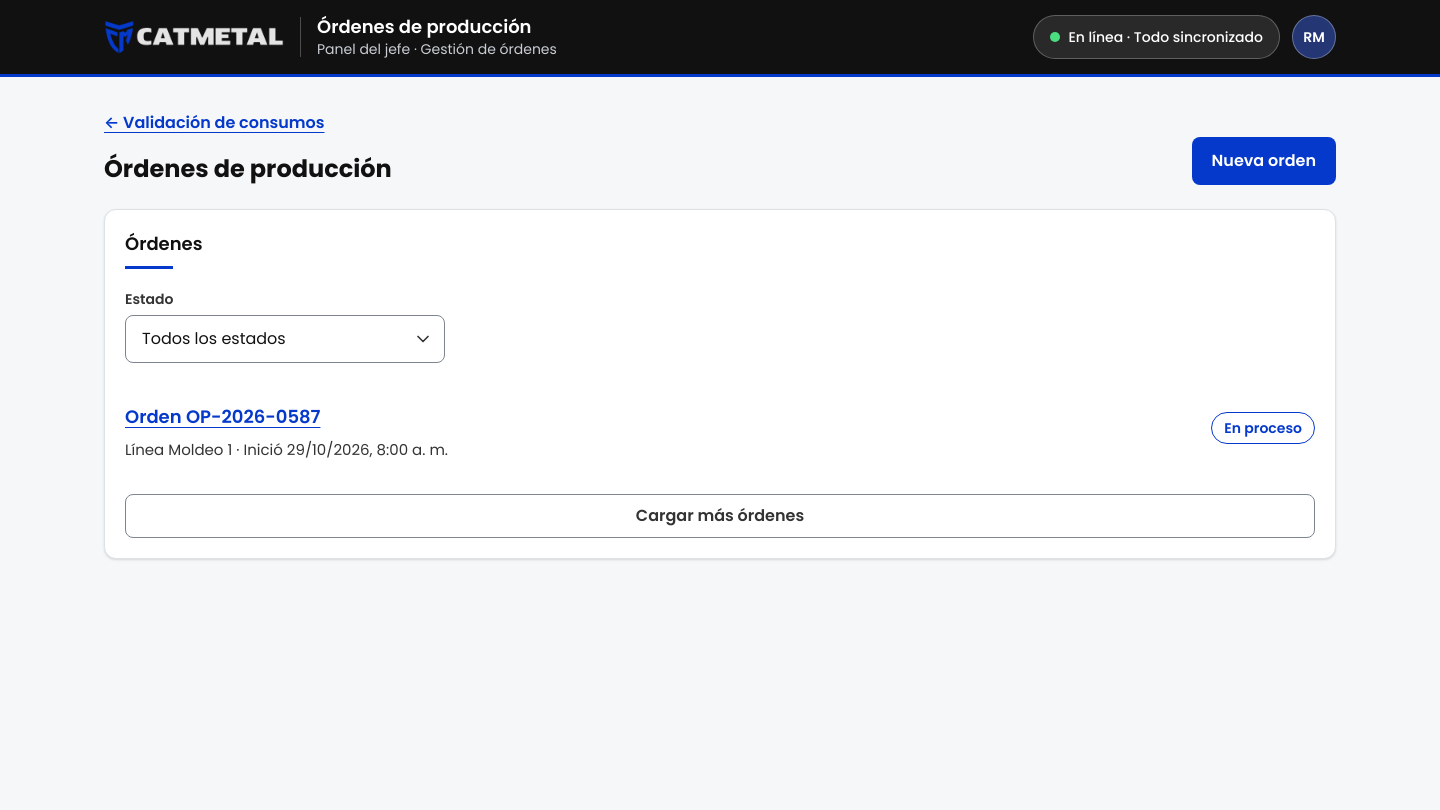
Test: lista de órdenes › lista por estado y pagina por cursor
Expected: the heading "Órdenes de producción" is shown, [104, 153, 392, 185]
Expected: the header shows "Órdenes de producción", [317, 14, 532, 39]
Click the button "Cargar más órdenes": click(720, 516) [125, 494, 1315, 538]
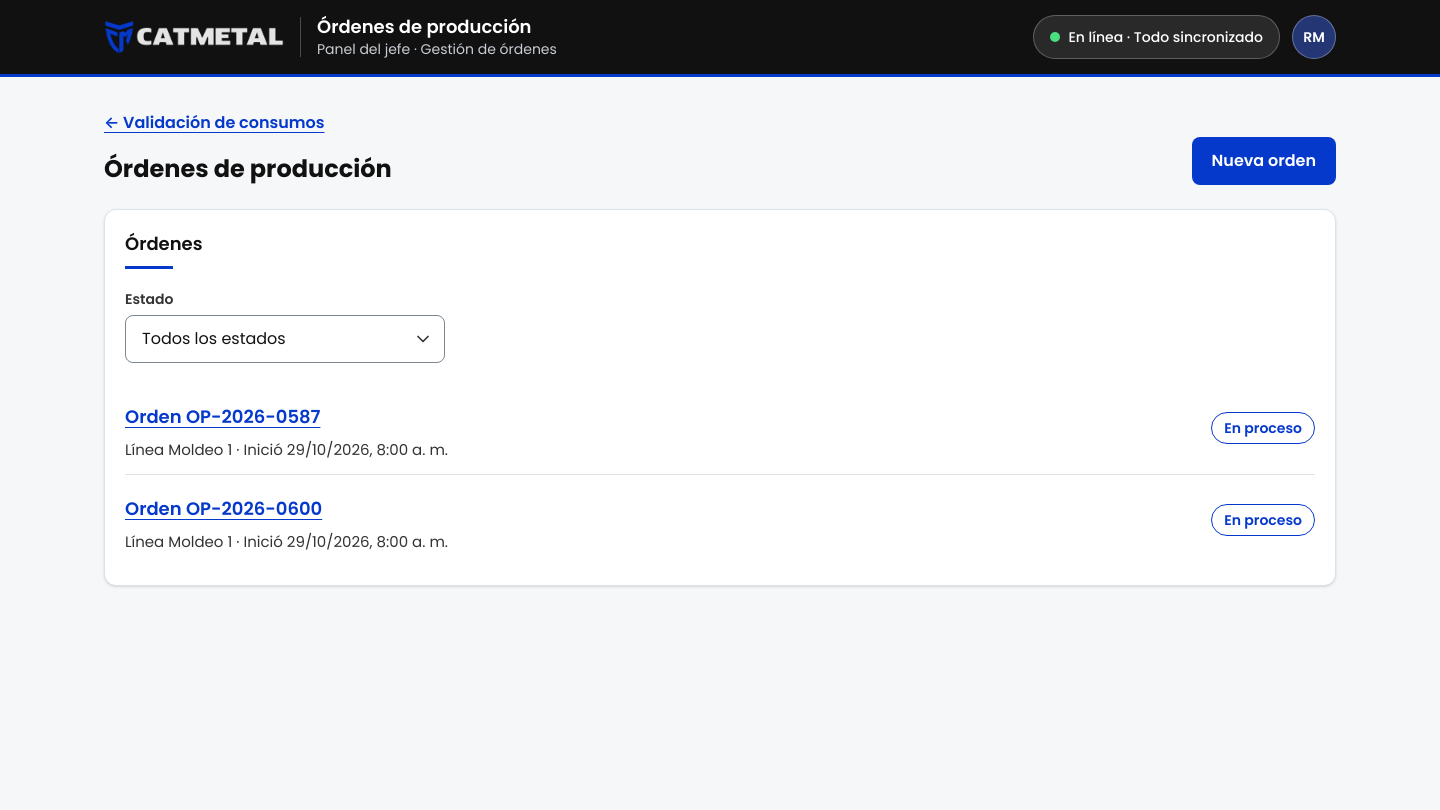
Now the link "Orden OP-2026-0600" is shown, box [125, 496, 322, 520]
Select "Planeada" in the dropdown labelled "Estado": (285, 339) [125, 315, 445, 363]
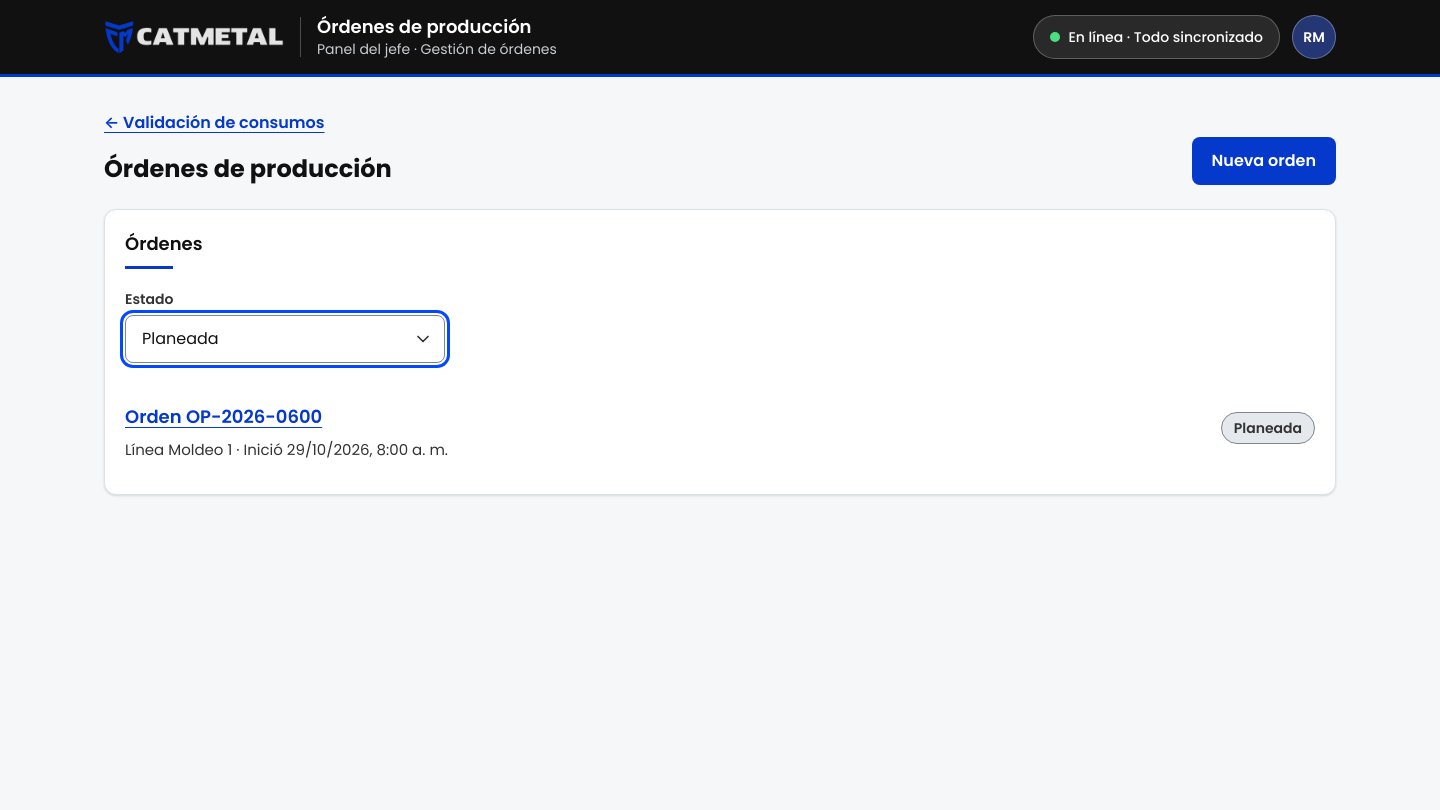
Now the link "Orden OP-2026-0587" is gone
